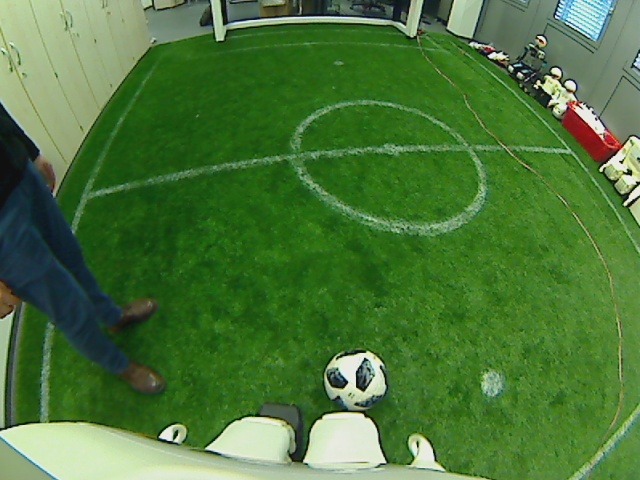ball: (320, 344, 390, 413)
